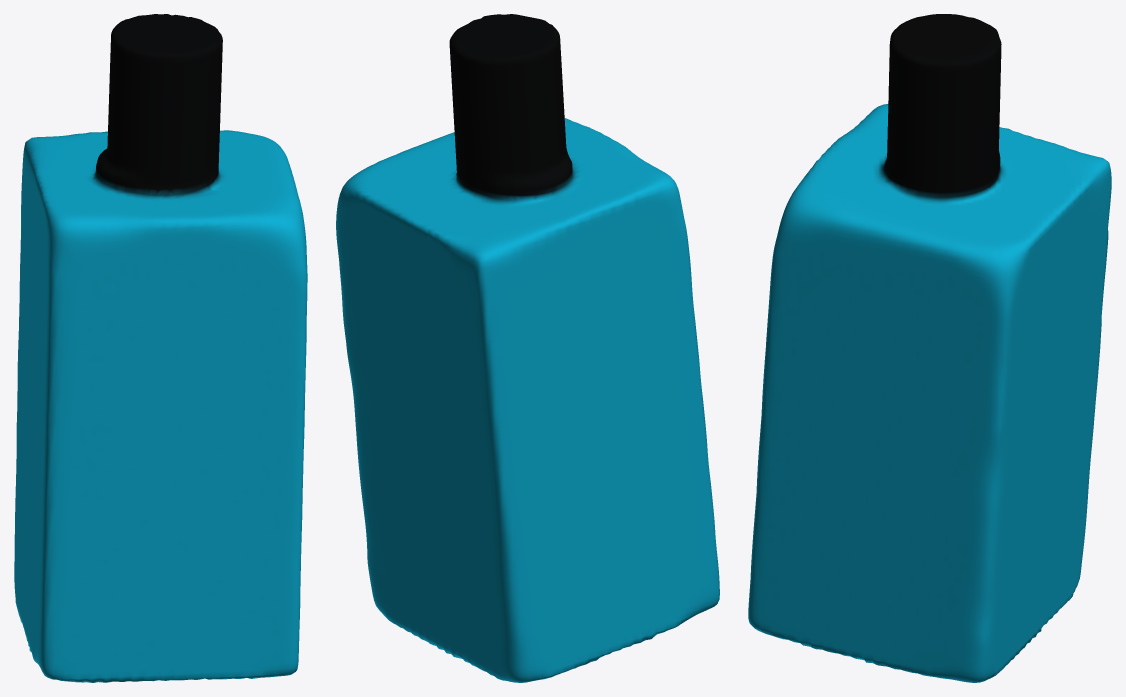
3 renders of one model, left to right at view 1: azimuth 30°, elevation 25°; view 2: azimuth 150°, elevation 25°; view 3: azimuth 270°, elevation 25°, orthographic.
Visible parts, largest first — view 1: ReferenceModel_Selection_16; view 2: ReferenceModel_Selection_16; view 3: ReferenceModel_Selection_16.
Part boxes in pixels (box(x1,y1,x2,y2)): ReferenceModel_Selection_16: box(14, 14, 307, 682); ReferenceModel_Selection_16: box(336, 14, 719, 682); ReferenceModel_Selection_16: box(748, 14, 1111, 682).
Bounding box in the file's own units: 24.91 × 45.79 × 25.27.
